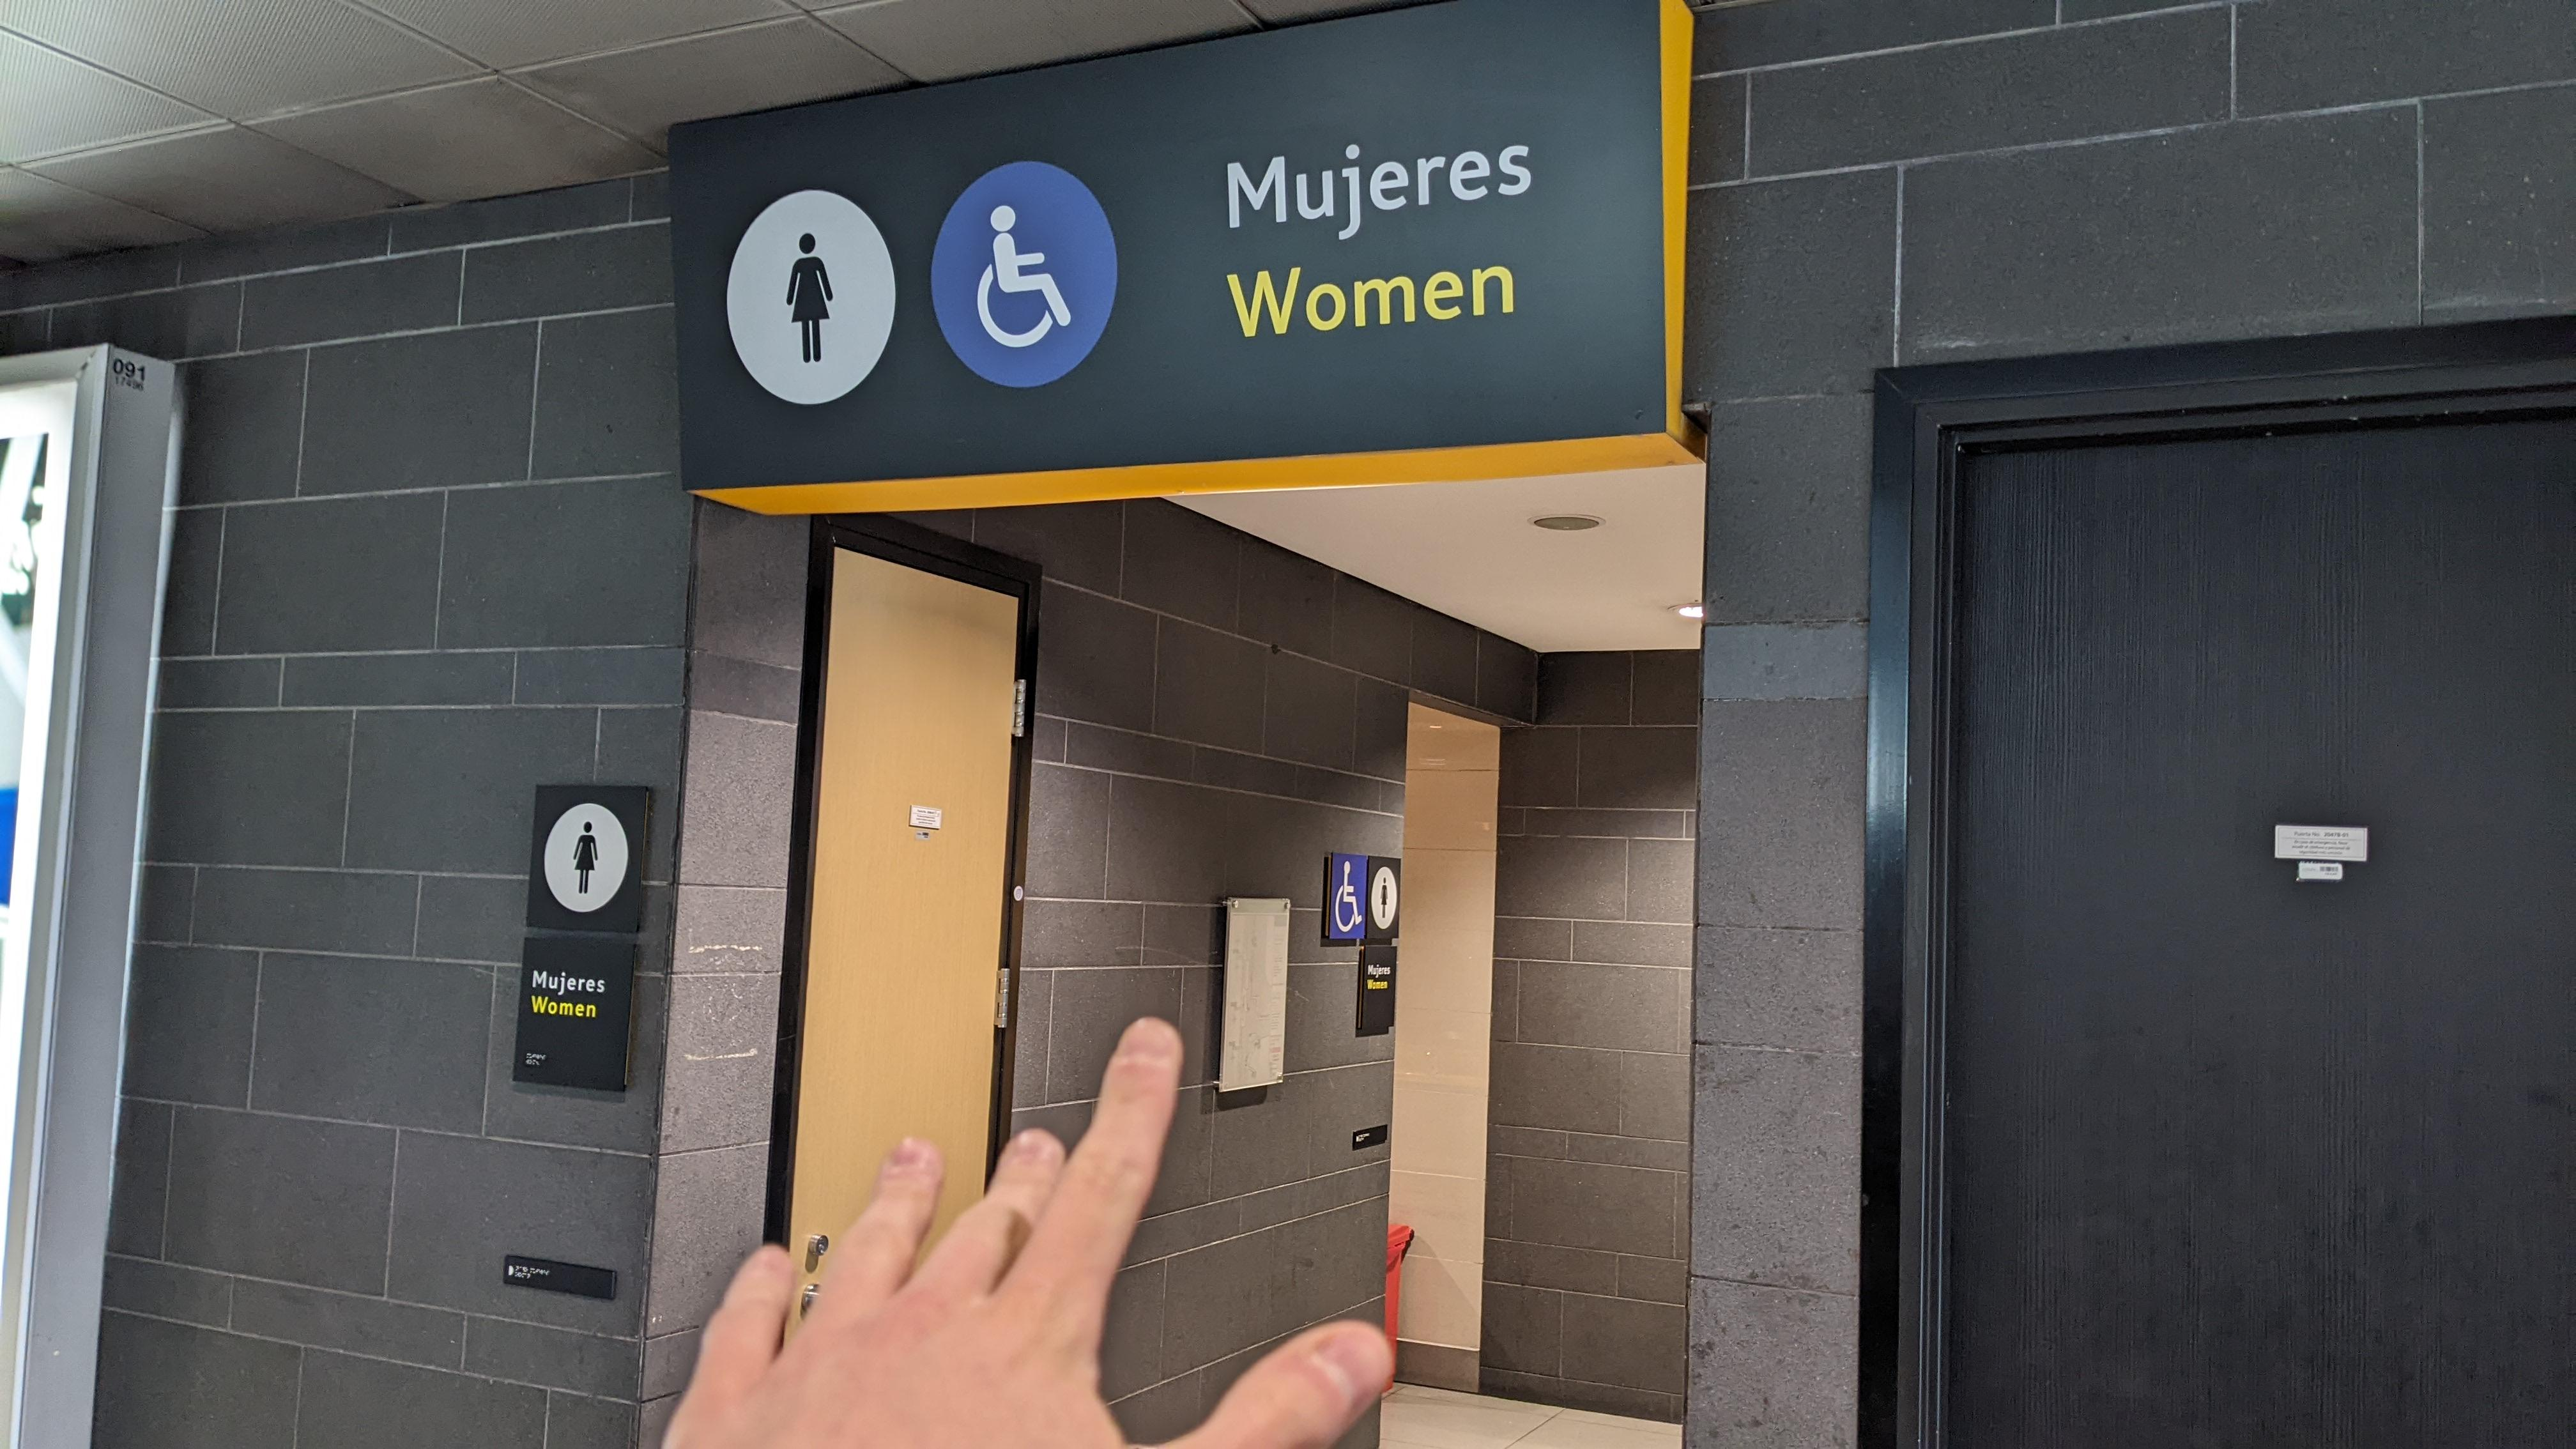handicapped symbol: (968, 196, 1074, 356), (1334, 860, 1364, 932)
